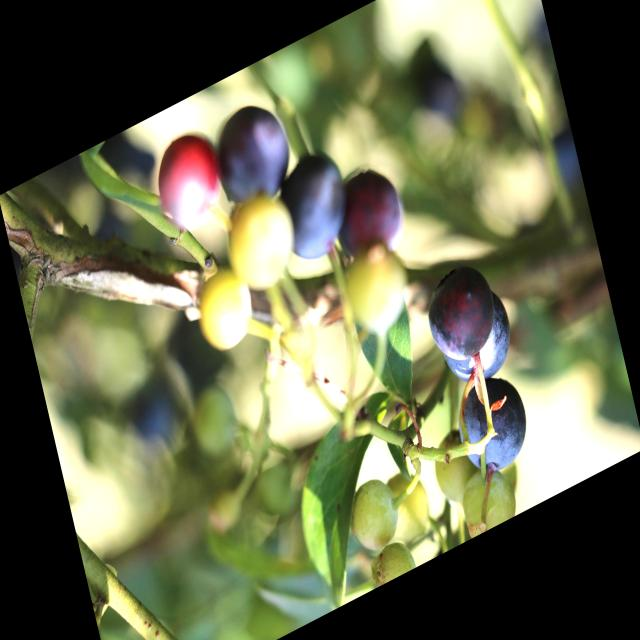blueberry: (273, 141, 358, 278), (209, 95, 300, 222), (451, 362, 535, 486), (420, 255, 504, 374), (436, 284, 520, 402), (329, 156, 407, 276), (149, 123, 228, 241)
blueberry-unripe: (224, 184, 302, 306), (184, 250, 262, 368), (339, 236, 415, 346), (428, 422, 485, 518), (455, 462, 520, 540), (344, 468, 404, 551), (358, 525, 423, 593)
